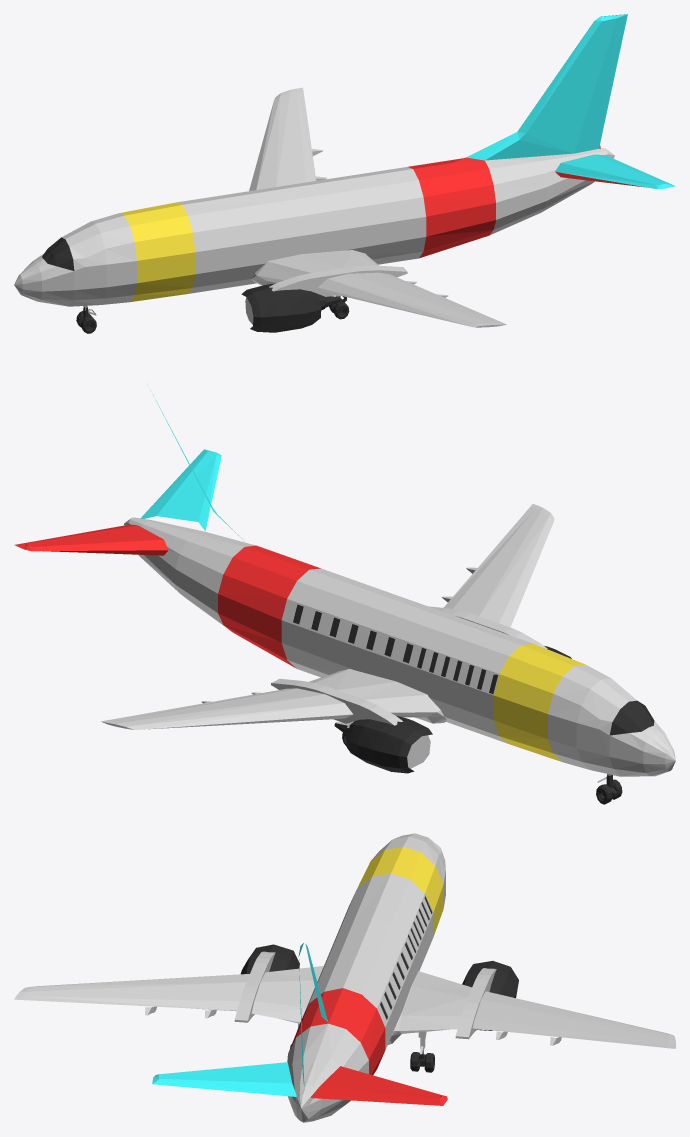
The picture shows the model from 3 angles, top to bottom: view 1: azimuth 30°, elevation 25°; view 2: azimuth 150°, elevation 25°; view 3: azimuth 270°, elevation 25°; orthographic projection. The views are drawn at different scales.
Parts seen in each view (by area): view 1: Layer_02za001; view 2: Layer_02za001, Object002; view 3: Layer_02za001, Object002.
Part boxes in pixels (x1,y1,x2,y2): Layer_02za001: [14, 14, 675, 333]; Layer_02za001: [14, 384, 675, 804]; Object002: [293, 604, 497, 693]; Layer_02za001: [14, 833, 675, 1122]; Object002: [380, 896, 432, 1019].
Size of the model in its own units: 4982 by 1925 by 4377.
